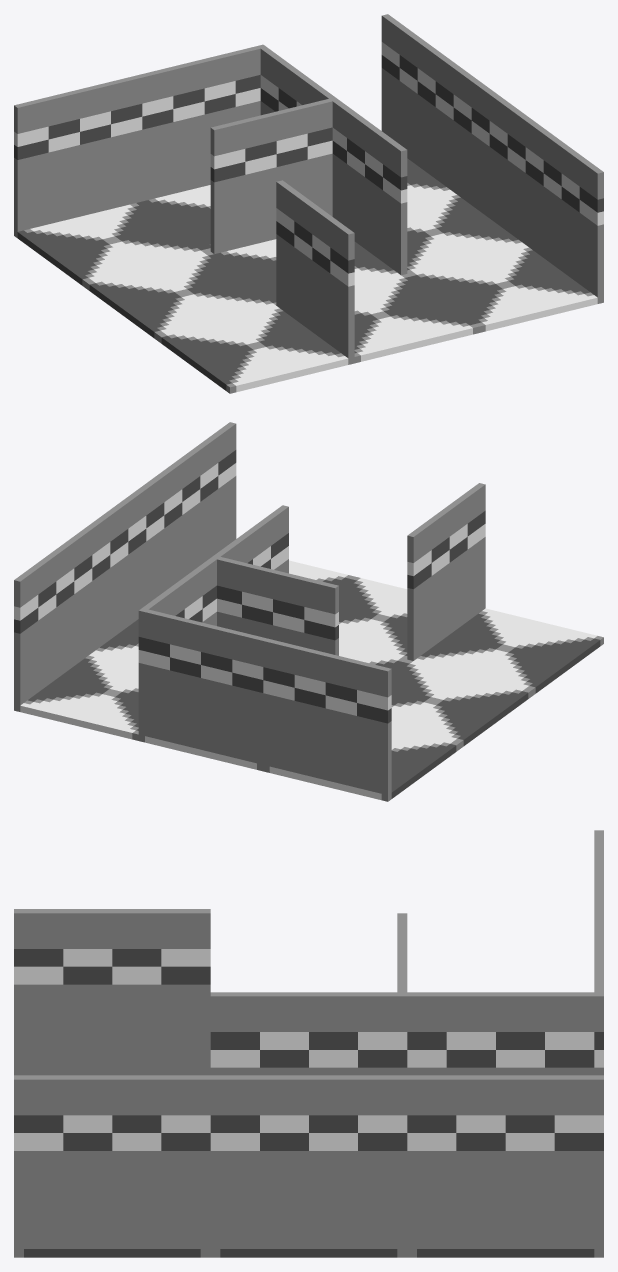
Rendered from level_maze-11.obj.
The picture shows the model from 3 angles, top to bottom: view 1: azimuth 30°, elevation 25°; view 2: azimuth 150°, elevation 25°; view 3: azimuth 270°, elevation 25°; orthographic projection. The views are drawn at different scales.
Parts seen in each view (by area): view 1: level_maze-11; view 2: level_maze-11; view 3: level_maze-11.
Part boxes in pixels (left/top/right/bottom): level_maze-11: left=14, top=14, right=603, bottom=393; level_maze-11: left=14, top=422, right=603, bottom=801; level_maze-11: left=14, top=830, right=603, bottom=1257.
Bounding box in the file's own units: 60 × 20 × 60.
Materials: 1 (1 with a texture image).
